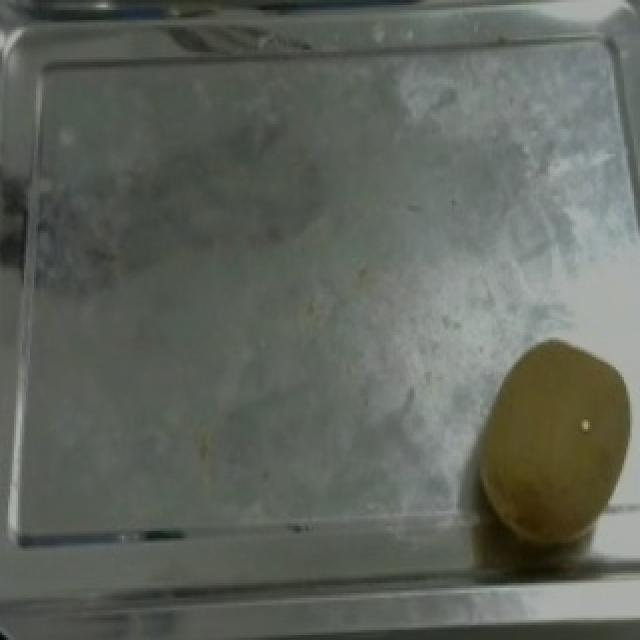Fruit: (466, 335, 640, 553)
